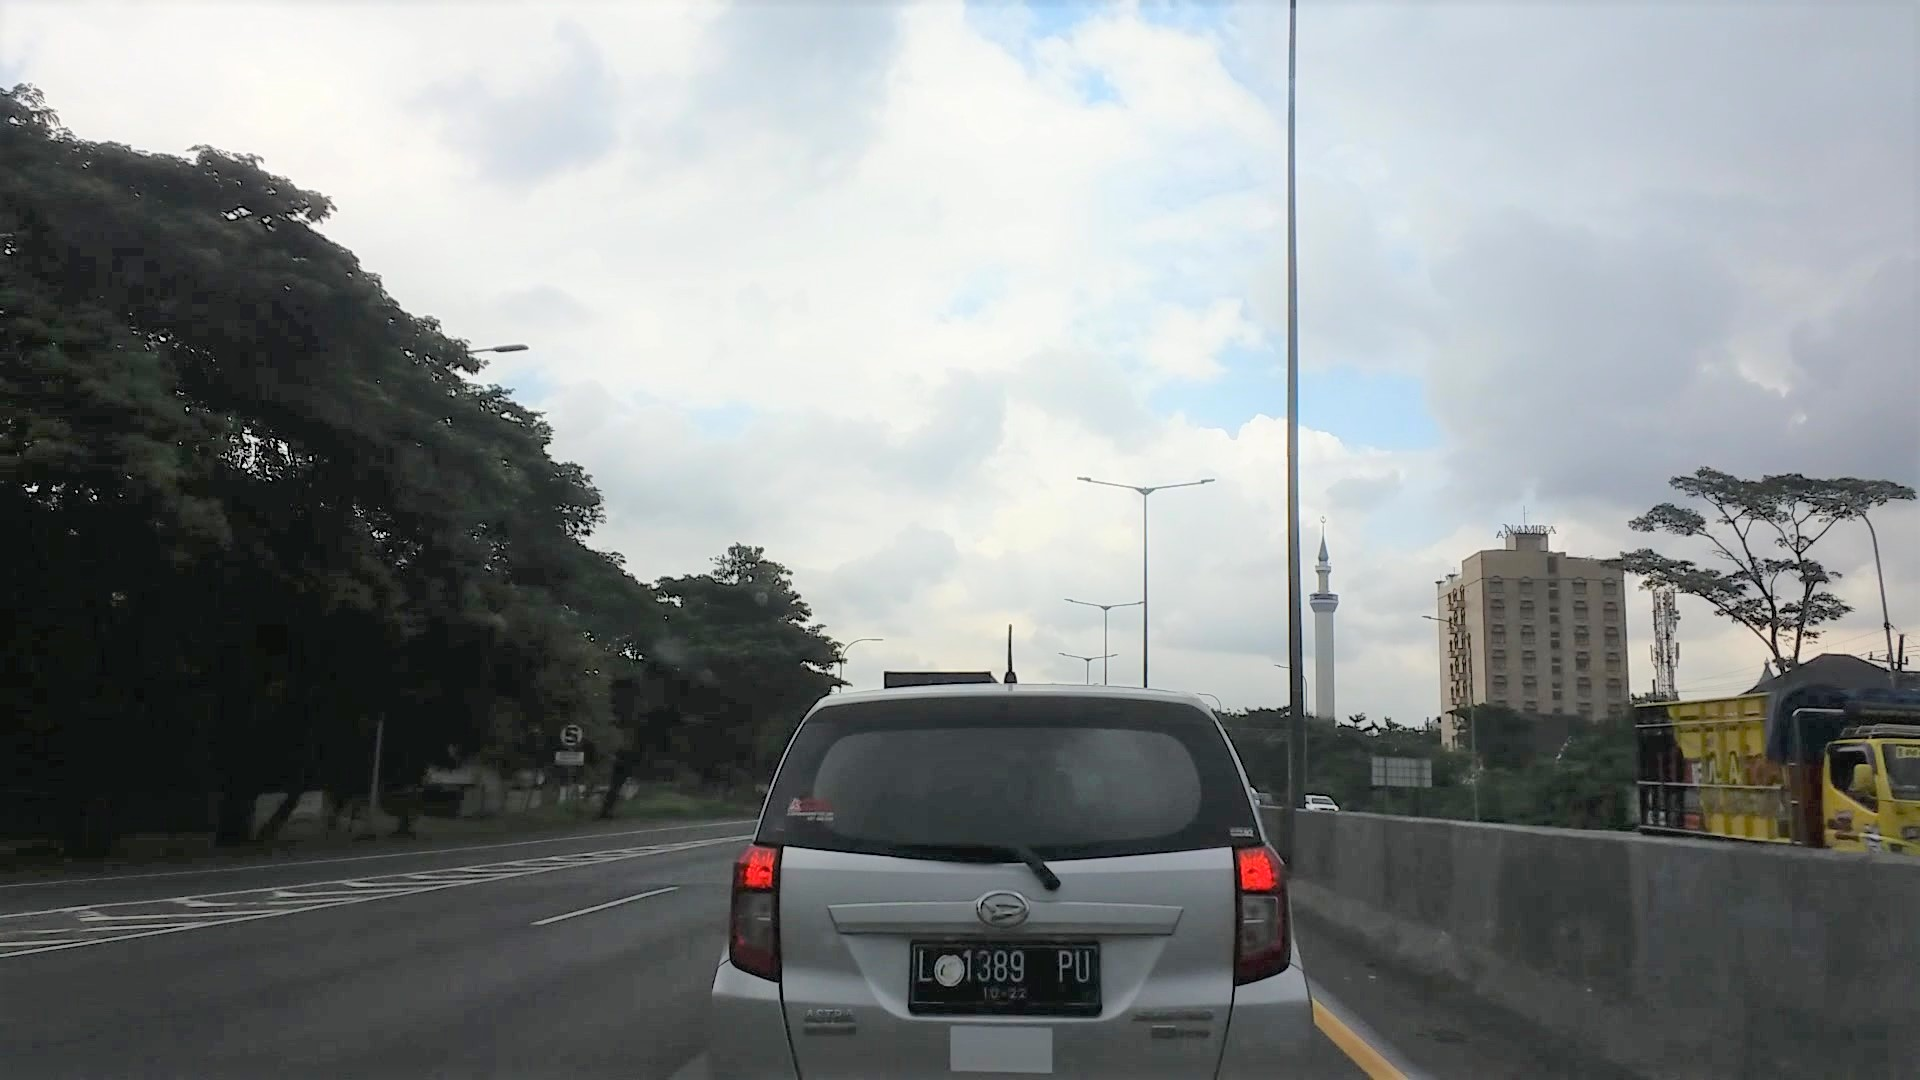plate_positive: (909, 938, 1102, 1017)
